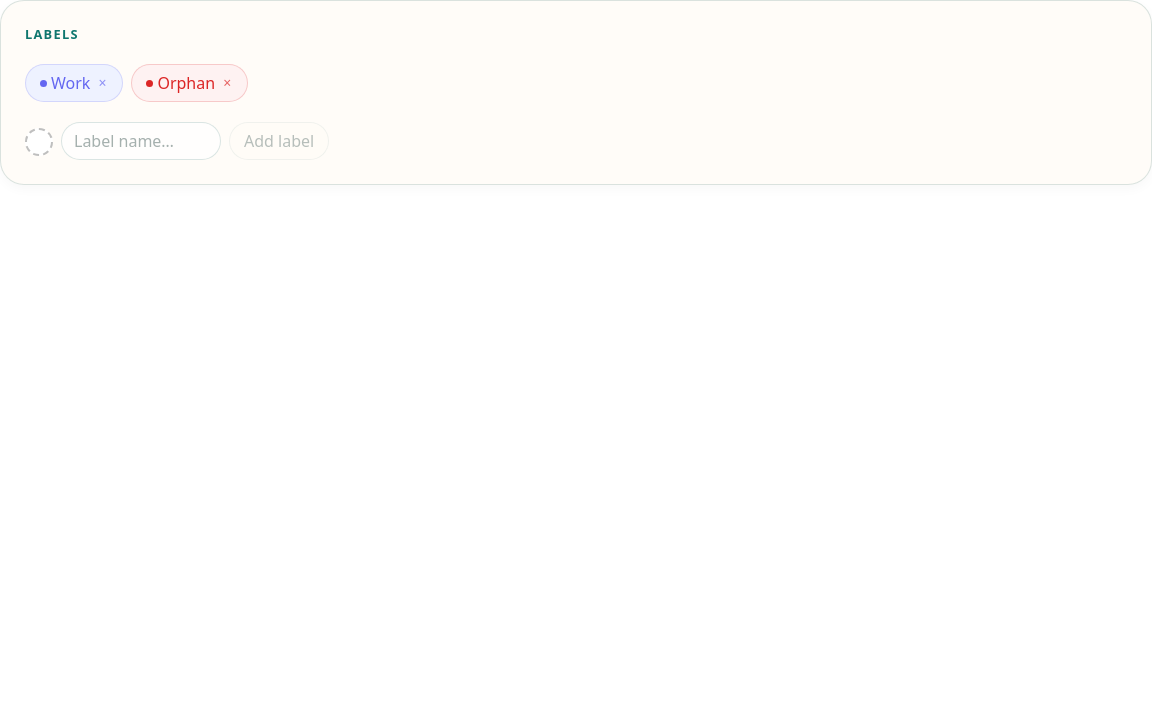
it: LabelManager destructive-delete confirmation (ISS-082) › cascade-count message matches the number of reminders using the label
# Click the "×" delete button on the Work chip.
Click the button named "Delete Work" at point(102, 83), box [96,76,108,90]
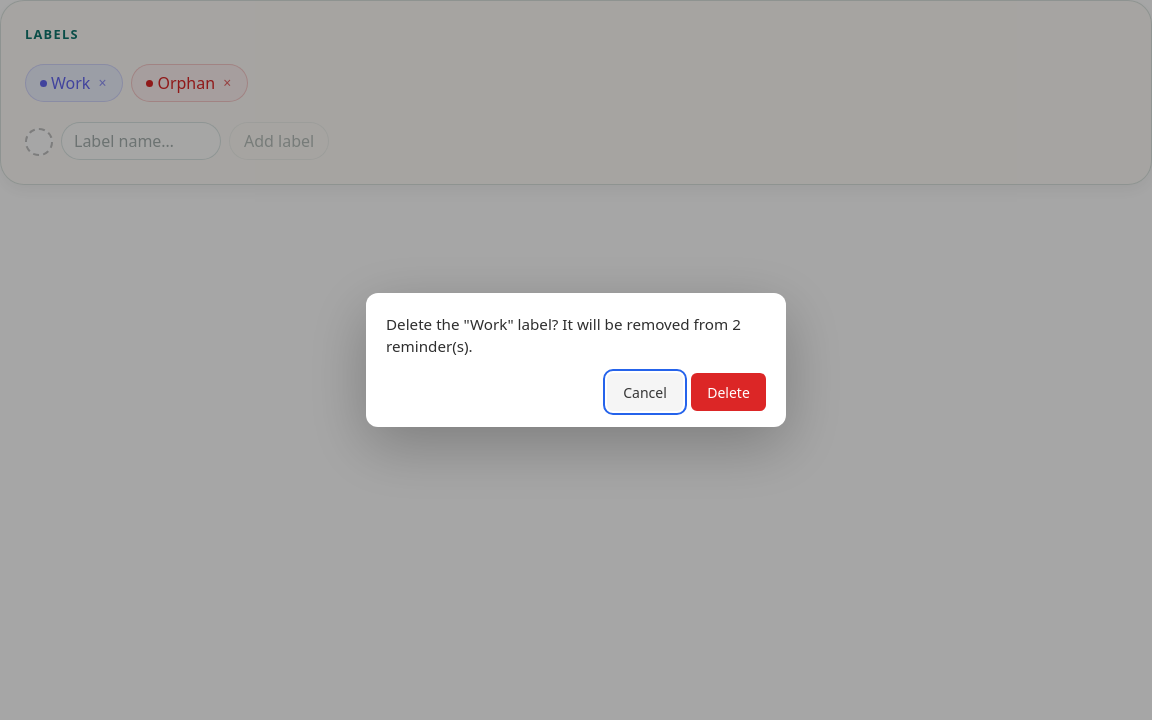
Check: the text "removed from 2 reminder" is shown, box [386,314,741,356]
